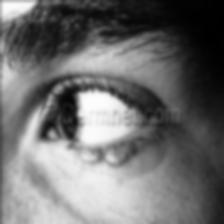Unclassified: (62, 147, 153, 167)
